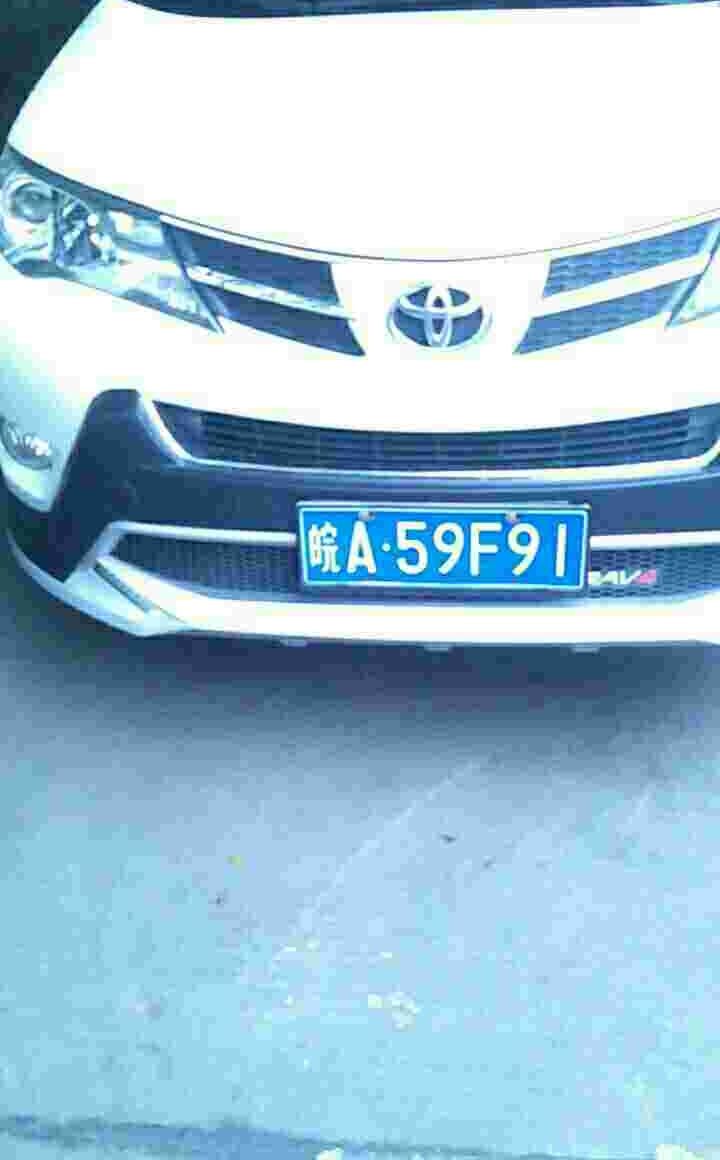license_plate: (294, 503, 609, 579)
